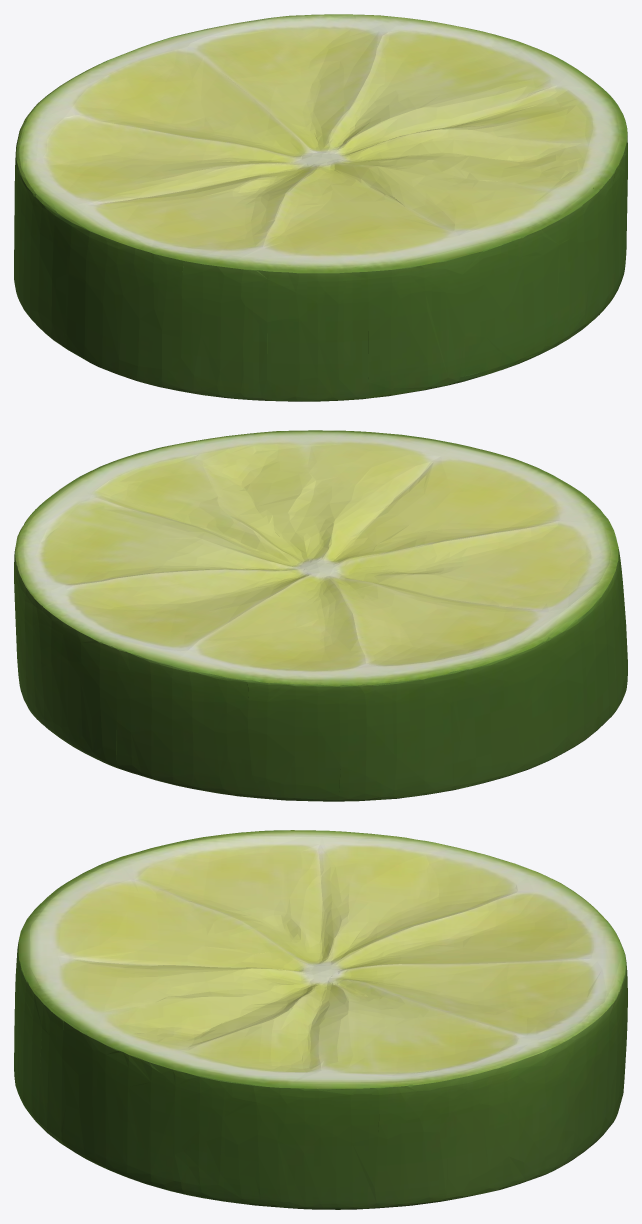
Rendered from lime_slice.glb.
3 renders of one model, top to bottom at view 1: azimuth 30°, elevation 25°; view 2: azimuth 150°, elevation 25°; view 3: azimuth 270°, elevation 25°, orthographic. The views are drawn at different scales.
Visible parts, largest first — view 1: geometry_0; view 2: geometry_0; view 3: geometry_0.
Boxes of the visible parts, x1,y1,x2,y2 form: geometry_0: (14,14,627,401); geometry_0: (14,430,627,801); geometry_0: (14,830,627,1209).
Bounding box in the file's own units: 0.9992 × 0.2348 × 0.9793.
1 material, 1 textured.
